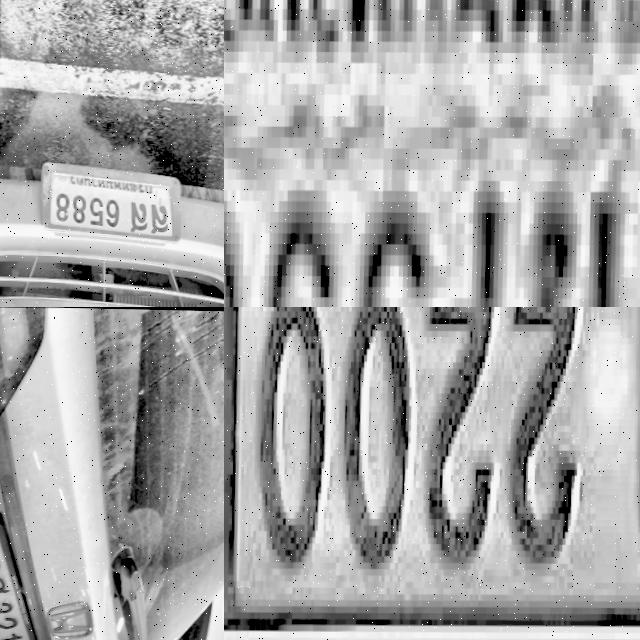license-plate: (224, 307, 640, 640), (224, 0, 640, 307), (48, 398, 153, 560), (37, 155, 182, 247)
